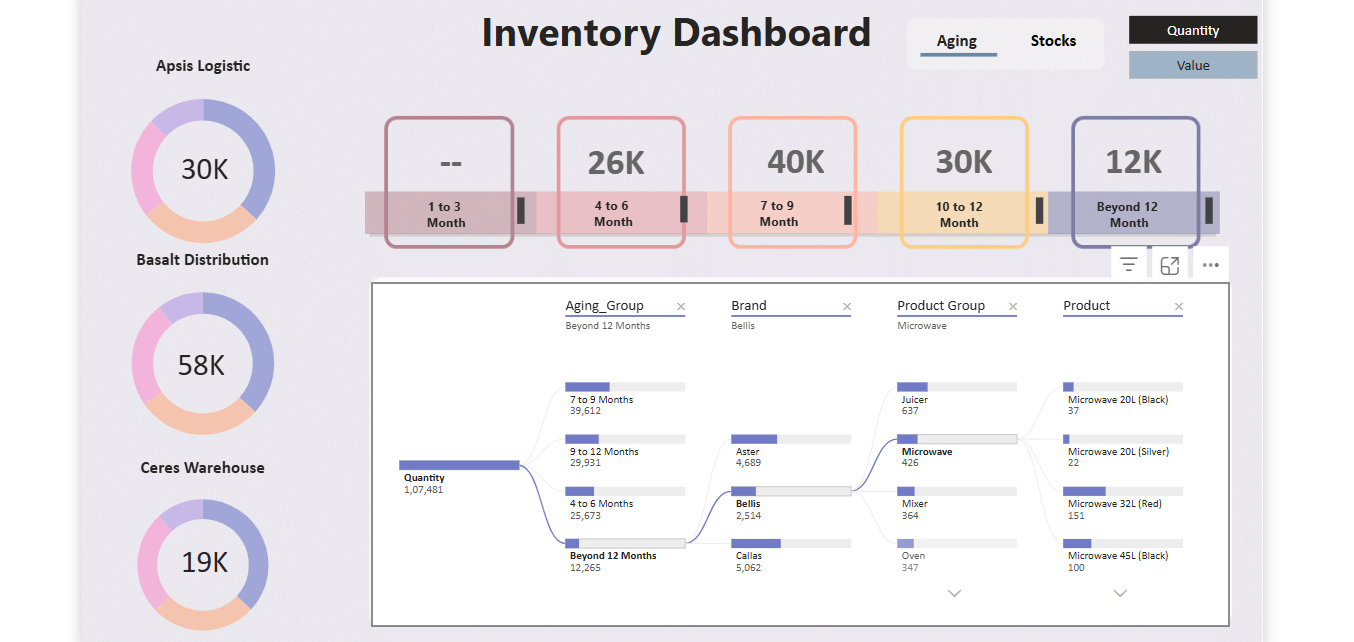

Layout of this report page (visuals, bound fields, positions):
{"tool":"powerbi","page":{"name":"Aging ","canvas":[1280,720],"ordinal":0},"visuals":[{"type":"textbox","box":[9.4,13.2,1269.9,69.9],"z":0},{"type":"pageNavigator","box":[901.4,13.2,200.3,90.7],"z":1000},{"type":"shape","box":[910,41.6,83.2,62.4],"z":2000},{"type":"advancedSlicerVisual","fields":{"Values":["Parameter 1.Parameter 1"]},"box":[1130.4,26,149.6,78.1],"z":3000},{"type":"textbox","box":[313.9,222.8,170.8,42.3],"z":4000},{"type":"textbox","box":[499.3,221.2,162.7,42.3],"z":5000},{"type":"textbox","box":[679.9,221.2,159.4,43.9],"z":6000},{"type":"textbox","box":[863.7,222.8,183.8,42.3],"z":7000},{"type":"textbox","box":[1047.5,222.8,183.8,42.3],"z":8000},{"type":"cardVisual","fields":{"Data":["Measure Table.Inventory_Quantity"]},"box":[334.5,147.4,130.4,73.7],"z":9000},{"type":"cardVisual","fields":{"Data":["Measure Table.Inventory_Quantity"]},"box":[514,149.3,130.4,71.8],"z":10000},{"type":"cardVisual","fields":{"Data":["Measure Table.Inventory_Quantity"]},"box":[708.7,147.4,130.4,71.8],"z":11000},{"type":"cardVisual","fields":{"Data":["Measure Table.Inventory_Quantity"]},"box":[892,147.4,130.4,71.8],"z":12000},{"type":"cardVisual","fields":{"Data":["Measure Table.Inventory_Quantity"]},"box":[1075.3,147.4,130.4,71.8],"z":13000},{"type":"cardVisual","fields":{"Data":["Measure Table.Inventory_Quantity"]},"box":[75.7,151.4,113.5,75.7],"z":14000},{"type":"donutChart","title":"Apsis Logistic","fields":{"Y":["Measure Table.Inventory_Quantity"],"Category":["_stock.Aging_Group"]},"box":[10,73.7,243,229],"z":15000},{"type":"cardVisual","fields":{"Data":["Measure Table.Inventory_Quantity"]},"box":[41.2,360.8,177.8,87.6],"z":16000},{"type":"donutChart","title":"Basalt Distribution","fields":{"Y":["Measure Table.Inventory_Quantity"],"Category":["_stock.Aging_Group"]},"box":[10.3,283.5,242.3,226.8],"z":17000},{"type":"cardVisual","fields":{"Data":["Measure Table.Inventory_Quantity"]},"box":[73.7,569.6,119.5,99.6],"z":18000},{"type":"donutChart","title":"Ceres Warehouse","fields":{"Y":["Measure Table.Inventory_Quantity"],"Category":["_stock.Aging_Group"]},"box":[8.1,509.1,245.6,211.5],"z":19000},{"type":"decompositionTreeVisual","fields":{"Analyze":["Measure Table.Inventory_Quantity"],"ExplainBy":["_stock.Aging_Group","_product.Brand","_product.Product Group","_product.Product"]},"box":[313.9,320.4,930.4,372.5],"z":20000}]}

Visuals, with their boxes on the page's 1280x720 design canvas (x1, y1, x2, y2). These are canvas units, not pixel positions in the 1354x642 screenshot, which may show the page scaled, cropped or inside an application window:
textbox: 9:13:1279:83
pageNavigator: 901:13:1102:104
shape: 910:42:993:104
advancedSlicerVisual - Parameter 1.Parameter 1: 1130:26:1280:104
textbox: 314:223:485:265
textbox: 499:221:662:264
textbox: 680:221:839:265
textbox: 864:223:1048:265
textbox: 1048:223:1231:265
cardVisual - Measure Table.Inventory_Quantity: 334:147:465:221
cardVisual - Measure Table.Inventory_Quantity: 514:149:644:221
cardVisual - Measure Table.Inventory_Quantity: 709:147:839:219
cardVisual - Measure Table.Inventory_Quantity: 892:147:1022:219
cardVisual - Measure Table.Inventory_Quantity: 1075:147:1206:219
cardVisual - Measure Table.Inventory_Quantity: 76:151:189:227
"Apsis Logistic" donutChart: 10:74:253:303
cardVisual - Measure Table.Inventory_Quantity: 41:361:219:448
"Basalt Distribution" donutChart: 10:284:253:510
cardVisual - Measure Table.Inventory_Quantity: 74:570:193:669
"Ceres Warehouse" donutChart: 8:509:254:721
decompositionTreeVisual - Measure Table.Inventory_Quantity x _stock.Aging_Group: 314:320:1244:693
